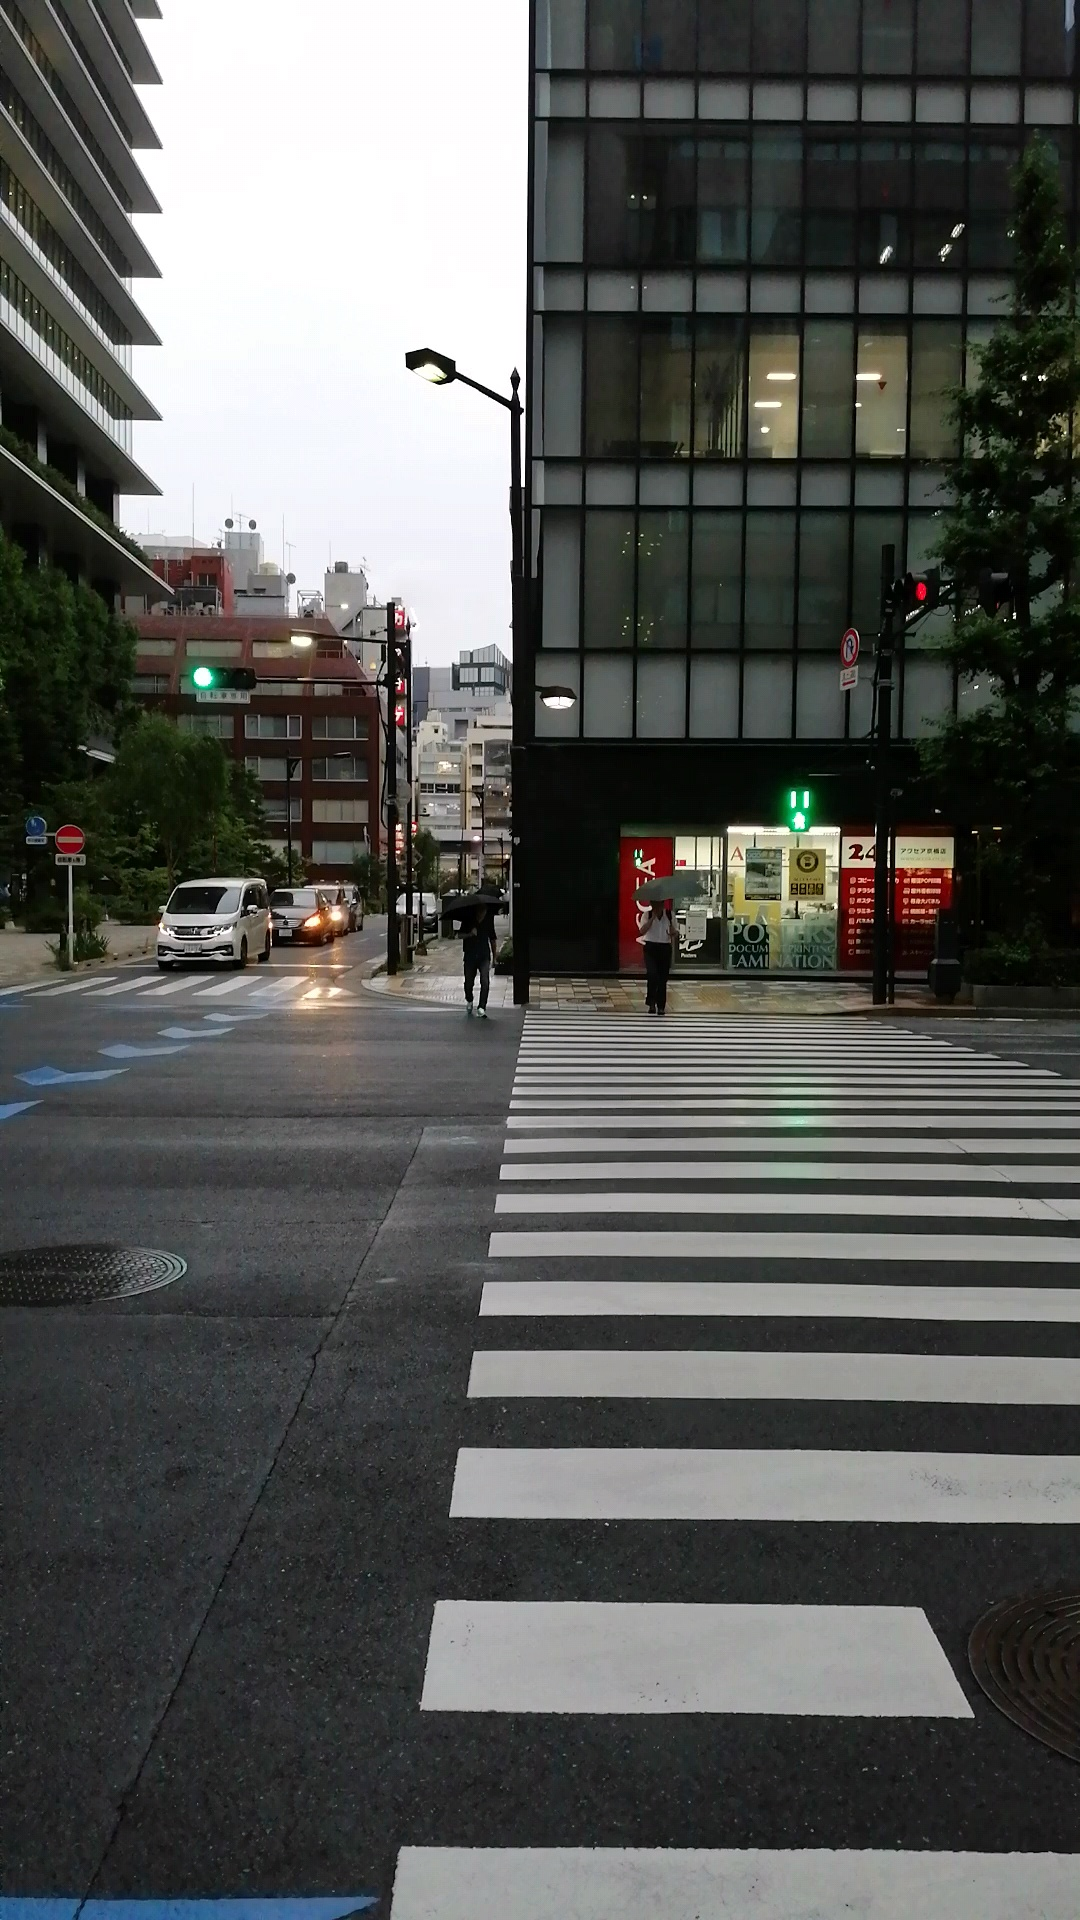green: (786, 785, 812, 835)
